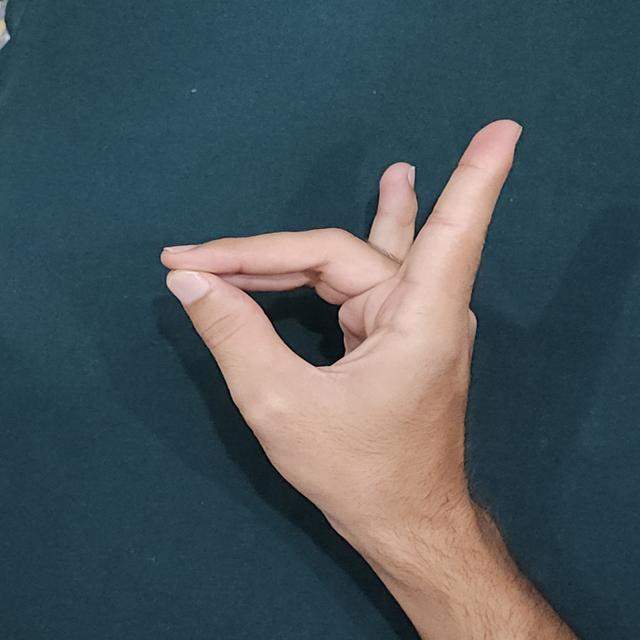پ: (145, 107, 539, 628)
